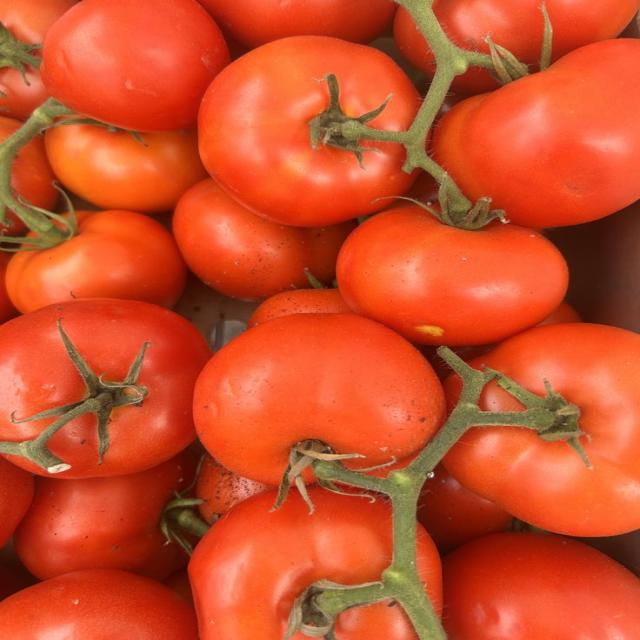tomato: (194, 314, 443, 485), (199, 36, 419, 227), (443, 323, 639, 536), (432, 39, 639, 227), (0, 299, 210, 478), (337, 205, 567, 345), (189, 487, 392, 639), (40, 0, 229, 131), (14, 454, 194, 580), (173, 179, 355, 300), (443, 533, 639, 639), (6, 211, 186, 313), (45, 124, 207, 212), (0, 569, 198, 639), (550, 201, 639, 332), (200, 0, 397, 48), (417, 465, 513, 553), (434, 0, 544, 71), (195, 455, 269, 523), (248, 289, 352, 327), (11, 138, 59, 209), (0, 0, 77, 44), (0, 458, 33, 548), (0, 542, 39, 600), (0, 254, 19, 323)
